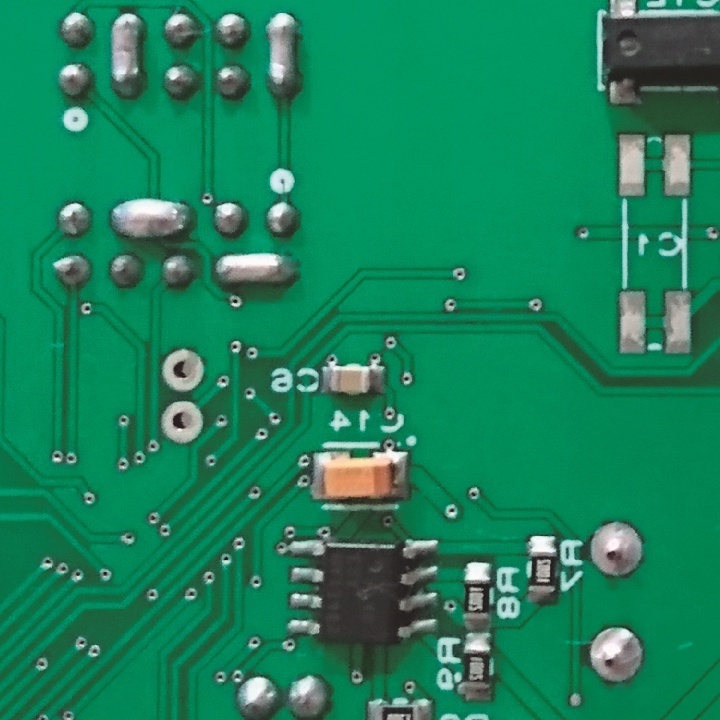F: (587, 625, 646, 692), (590, 520, 648, 580), (157, 398, 207, 447), (159, 347, 210, 395)
P: (107, 195, 196, 243), (209, 246, 300, 291), (106, 11, 150, 103), (261, 9, 304, 103)
